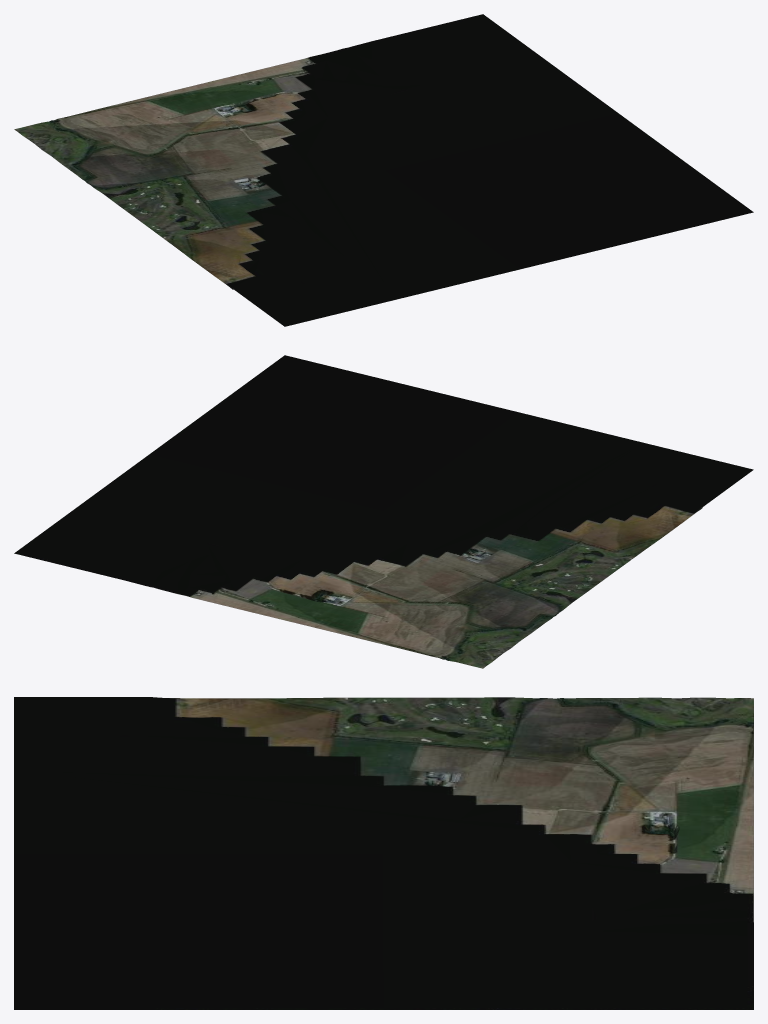
Rendered from map_10_256_427.dae.
3 renders of one model, top to bottom at view 1: azimuth 30°, elevation 25°; view 2: azimuth 150°, elevation 25°; view 3: azimuth 270°, elevation 25°, orthographic. The views are drawn at different scales.
Visible parts, largest first — view 1: Ter0; view 2: Ter0; view 3: Ter0.
Boxes of the visible parts, left/top/right/bottom form: Ter0: left=14, top=14, right=753, bottom=326; Ter0: left=14, top=355, right=753, bottom=668; Ter0: left=14, top=697, right=753, bottom=1009.
Size of the model in its own units: 2044 by 2044 by 19.77.
Materials: 3 (3 with a texture image).
